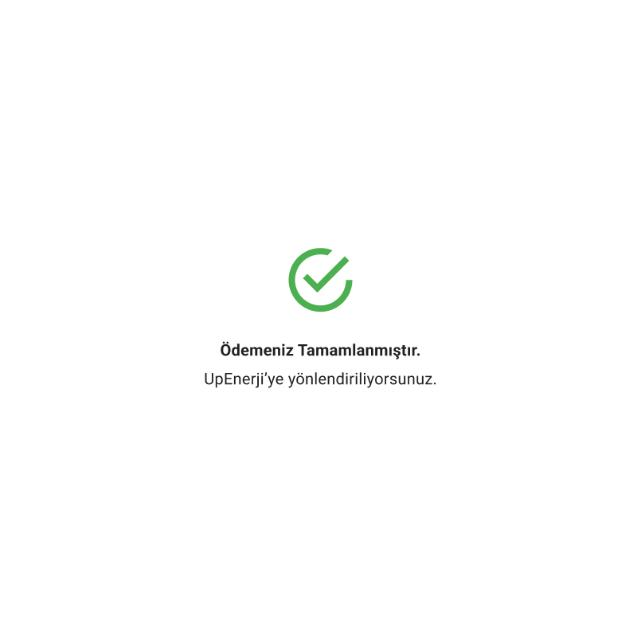QLabel: (200, 370, 436, 390), (214, 340, 420, 360)
VImg: (278, 246, 356, 316)
